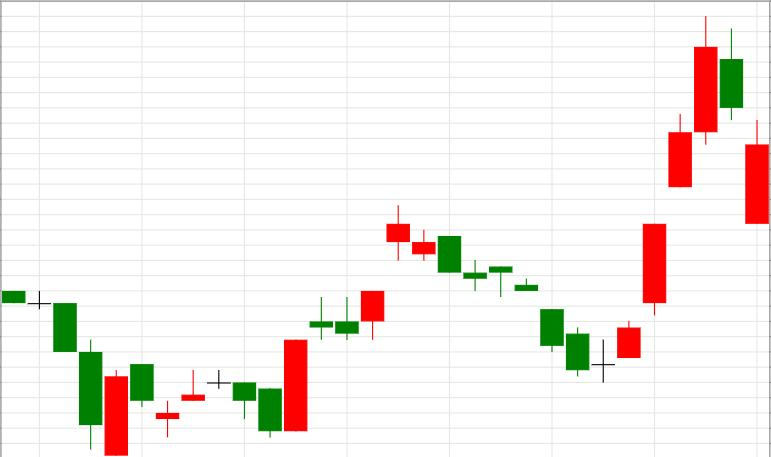hanging_man_fall: (438, 114, 692, 382)
